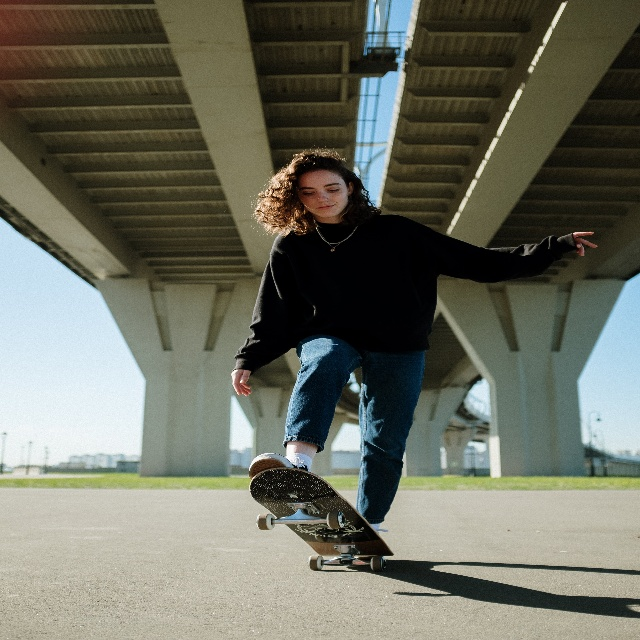Sin_guantes: (573, 231, 598, 257), (231, 369, 251, 397)
